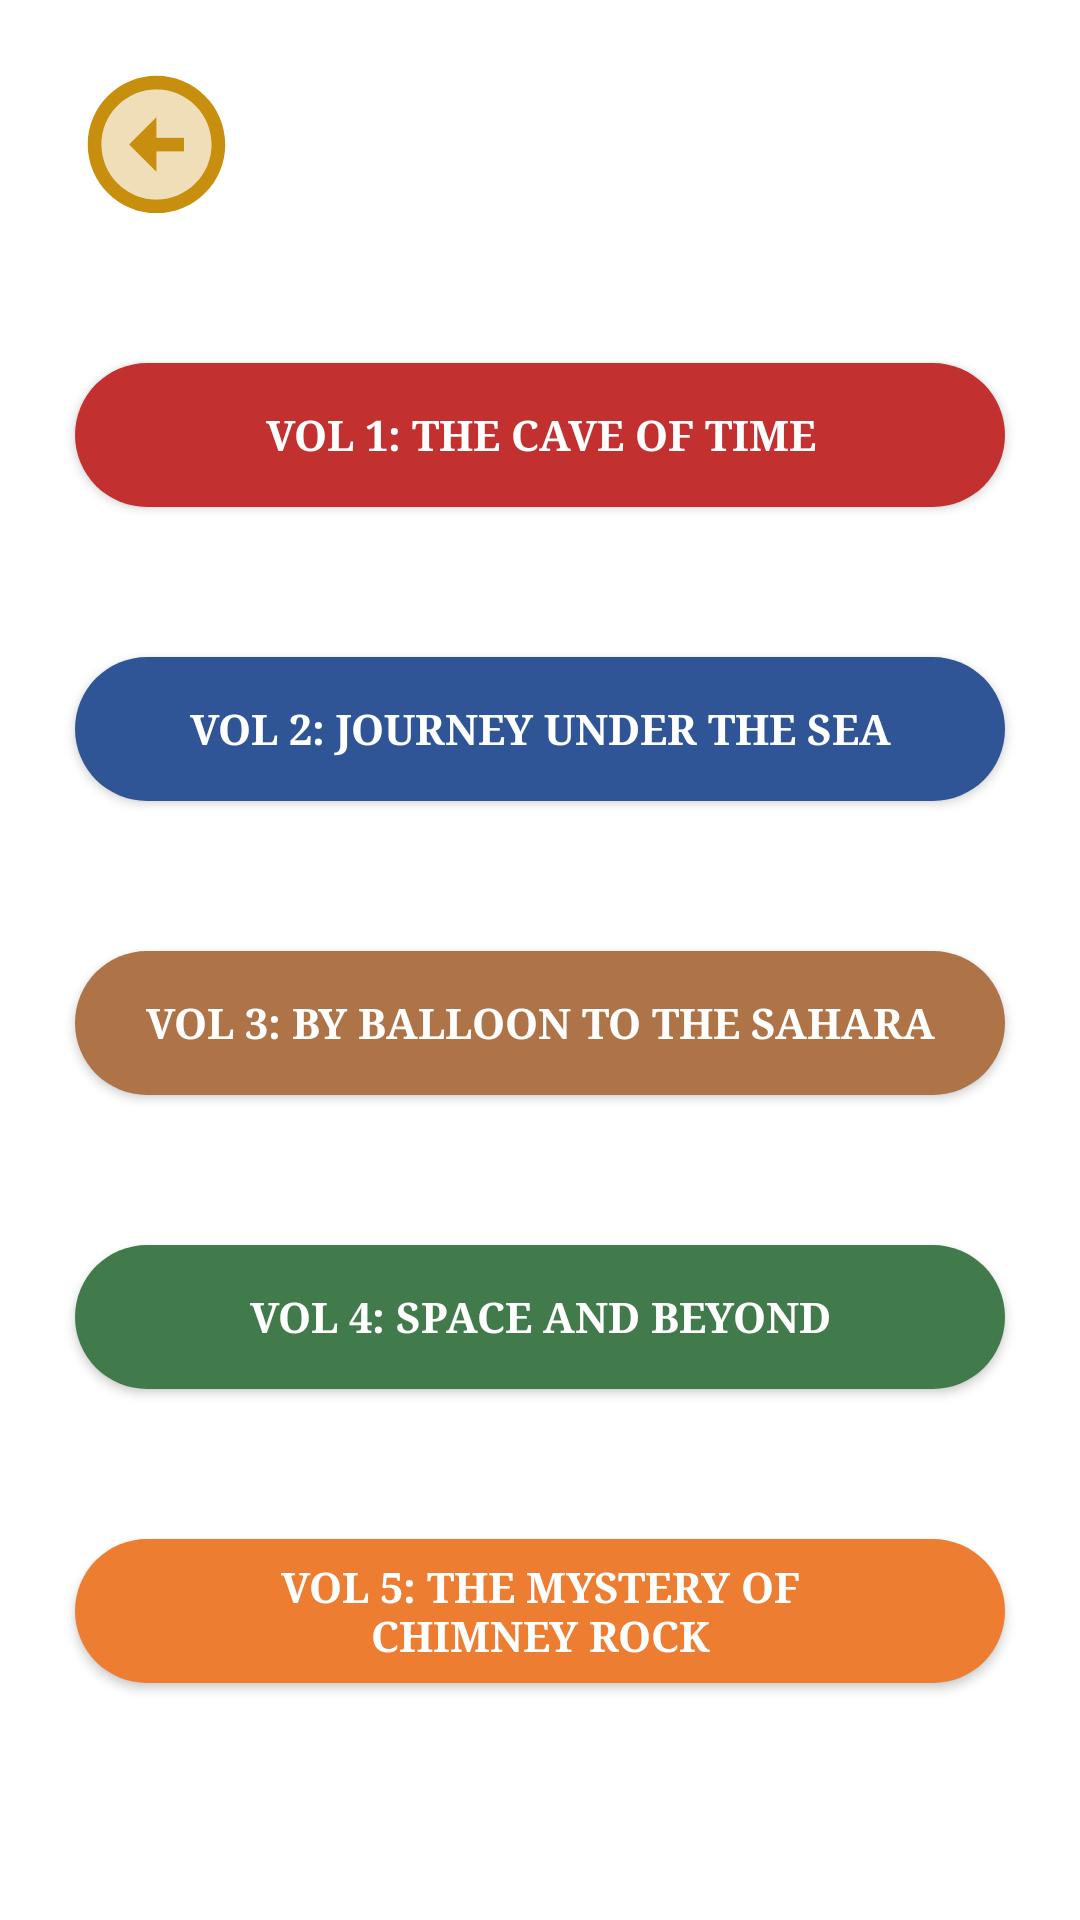

Point at icon controls on the screen. Image size 1080×1920, points as point (x, y).
arrow circle left: point (156, 144)
